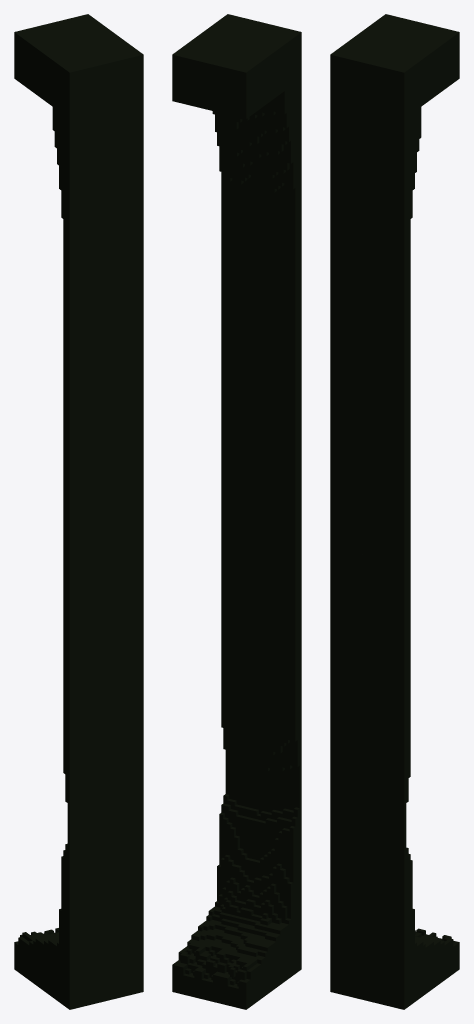
Rendered from Wall_3.glb.
The picture shows the model from 3 angles, left to right: view 1: azimuth 30°, elevation 25°; view 2: azimuth 150°, elevation 25°; view 3: azimuth 330°, elevation 25°; orthographic projection.
Visible parts, largest first — view 1: Untitled.033, Untitled.017, Untitled.022; view 2: Untitled.033, Untitled.017, Untitled.022; view 3: Untitled.033, Untitled.017, Untitled.022.
Part boxes in pixels (bbox=[...]): Untitled.033: bbox=[14, 546, 143, 1009]; Untitled.017: bbox=[63, 217, 143, 564]; Untitled.022: bbox=[14, 14, 143, 235]; Untitled.033: bbox=[172, 510, 301, 1009]; Untitled.017: bbox=[221, 181, 301, 528]; Untitled.022: bbox=[172, 14, 301, 199]; Untitled.033: bbox=[330, 546, 459, 1009]; Untitled.017: bbox=[330, 217, 410, 564]; Untitled.022: bbox=[330, 14, 459, 235].
Size of the model in its own units: 2 by 24.2 by 2.6.
3 materials, 3 textured.
